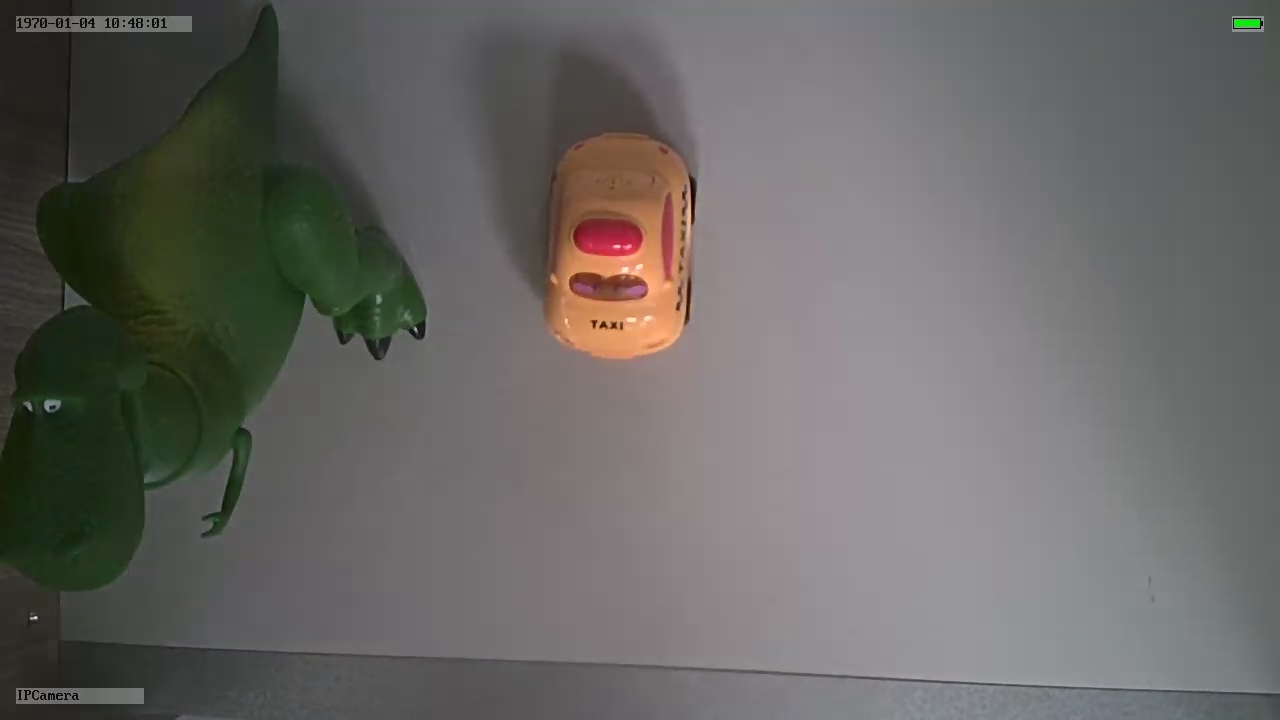car: (541, 126, 698, 367)
rex: (1, 100, 426, 592)
